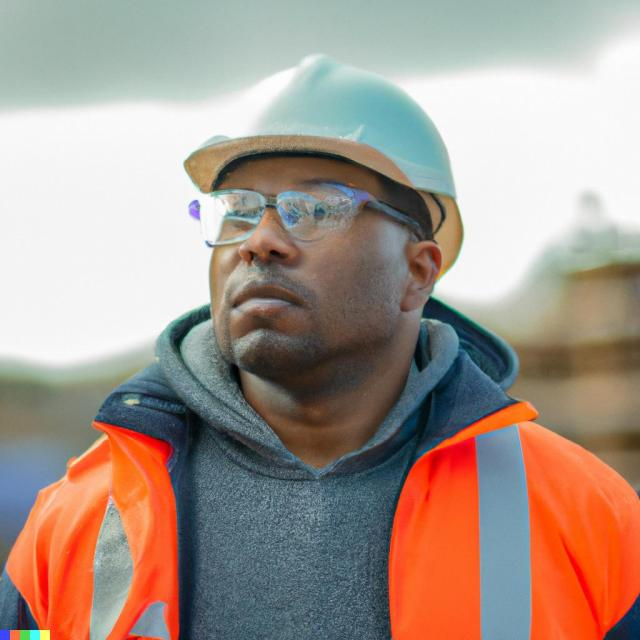Reflective-Jacket: (8, 356, 638, 636)
Safety-Helmet: (176, 53, 478, 223)
